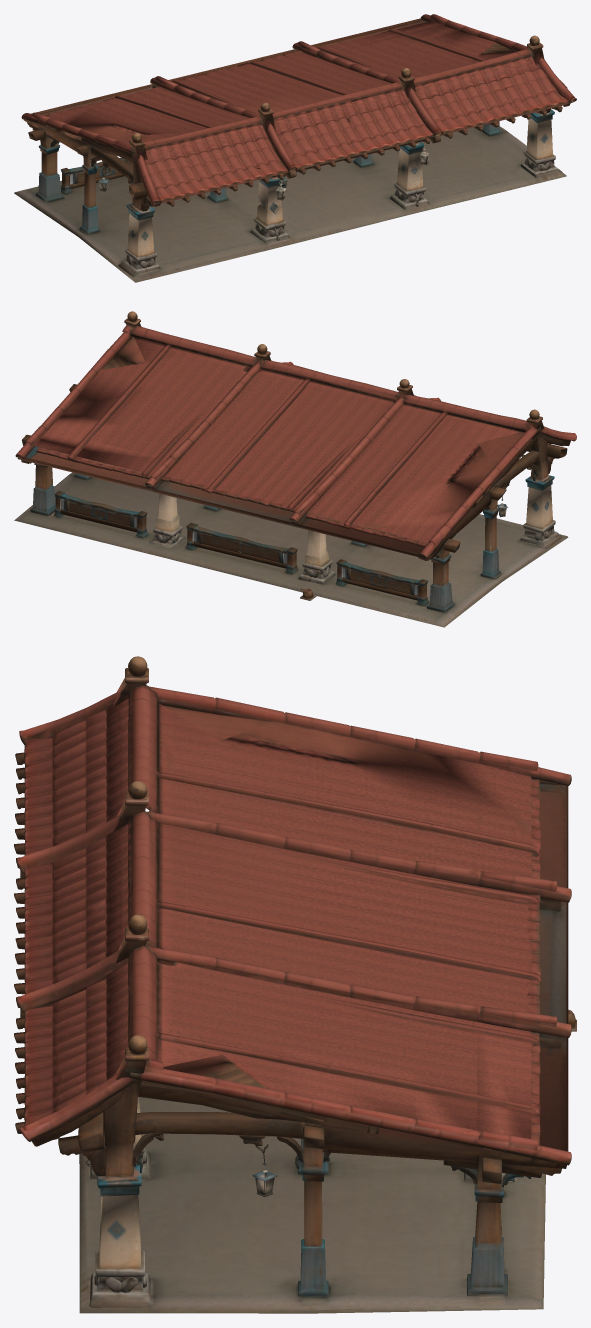
File: estacion.glb
3 renders of one model, top to bottom at view 1: azimuth 30°, elevation 25°; view 2: azimuth 150°, elevation 25°; view 3: azimuth 270°, elevation 25°, orthographic. The views are drawn at different scales.
Visible parts, largest first — view 1: estacion; view 2: estacion; view 3: estacion.
Boxes of the visible parts, <box> form: estacion: <box>14,14,576,282</box>; estacion: <box>14,311,576,627</box>; estacion: <box>14,656,576,1313</box>.
Size of what is drawn, in the model's own units: 16.97 by 5 by 9.79.
Materials: 1 (1 with a texture image).
